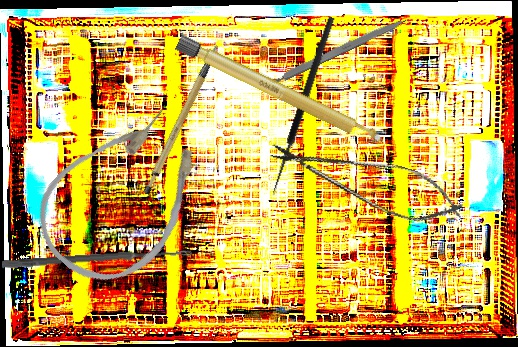Cannula: (16, 87, 232, 306)
Hook Surgical: (269, 15, 344, 200)
Micro Scissor: (262, 128, 472, 235)
Scalpel Handle: (174, 34, 386, 150), (124, 44, 242, 197), (261, 14, 409, 90)
Surgical Spoon: (1, 247, 193, 270)
